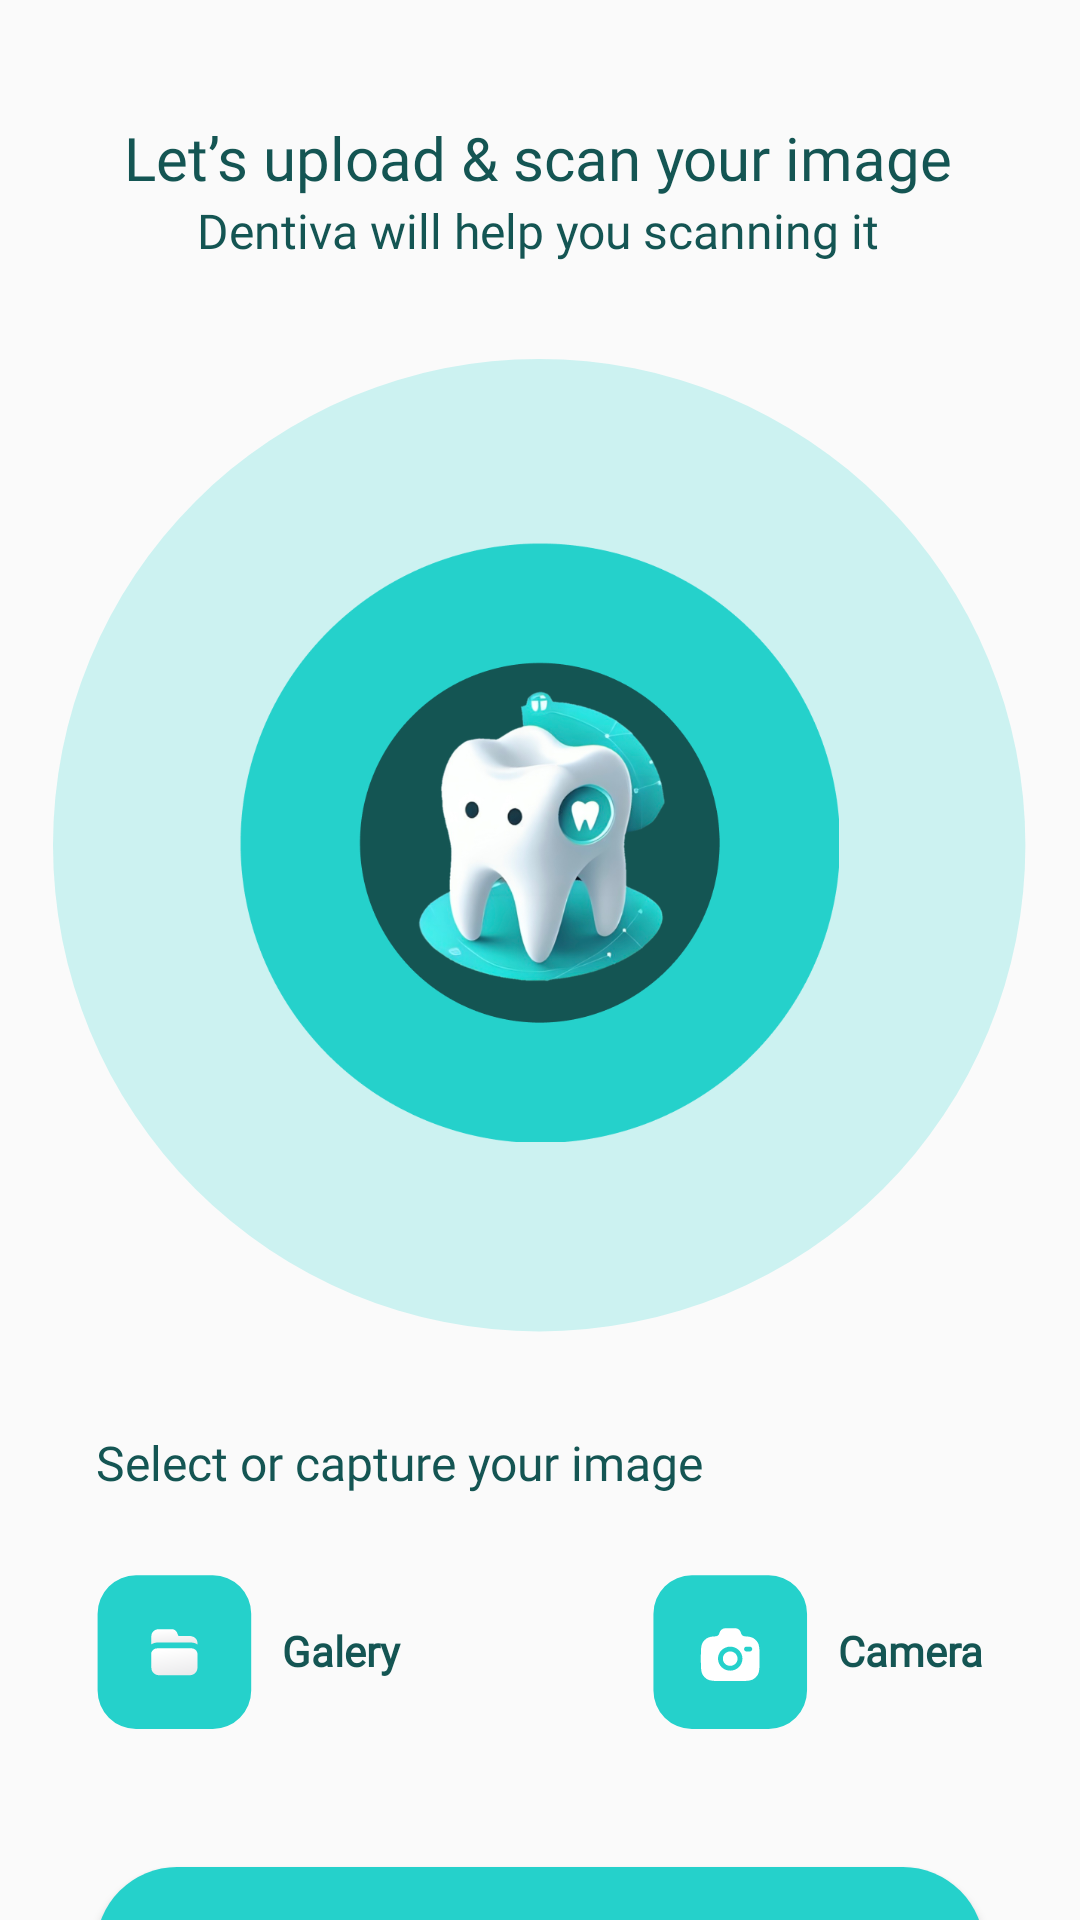

Icon bounding boxes for this 1080x1920 phone screenshot, format rect(x1, y1, x2, y2):
gallery: rect(97, 1575, 252, 1729)
